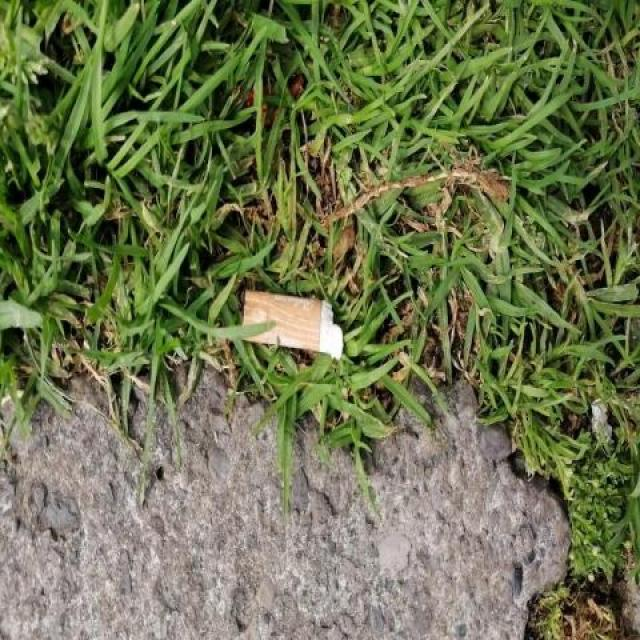non-organic waste: (236, 286, 345, 362)
